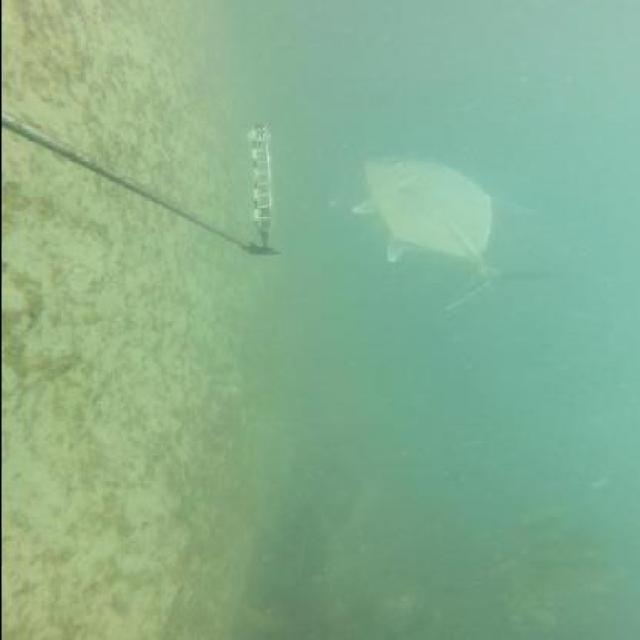Caranx: (344, 153, 568, 310)
